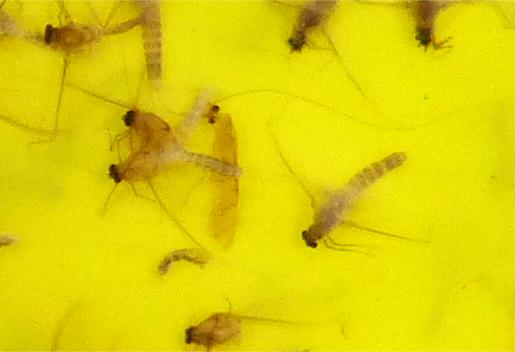Ephemeroptera: (294, 146, 415, 252), (122, 104, 247, 177), (100, 148, 243, 194), (43, 16, 163, 56), (285, 1, 338, 58), (182, 311, 250, 352), (406, 1, 443, 54)
Plecoptera: (195, 100, 246, 252)
